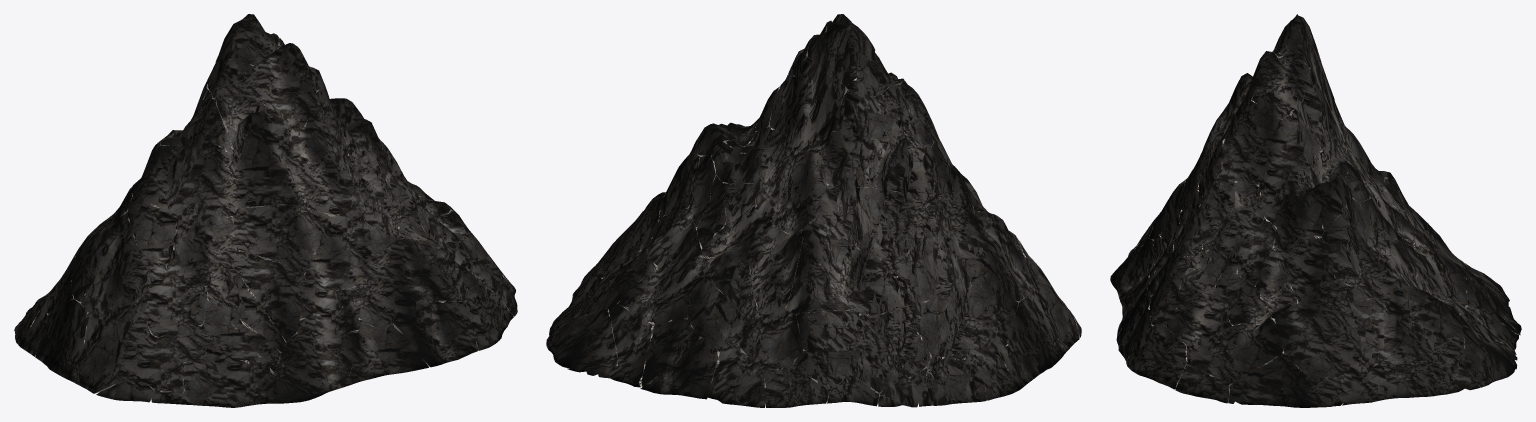
File: mountain2.glb
The picture shows the model from 3 angles, left to right: view 1: azimuth 30°, elevation 25°; view 2: azimuth 150°, elevation 25°; view 3: azimuth 270°, elevation 25°; orthographic projection. The views are drawn at different scales.
Parts seen in each view (by area): view 1: mountain_top, Landscape.004_cell.081, Landscape.004_cell.055, Landscape.004_cell.037, Landscape.004_cell.020, Landscape.004_cell.070, Landscape.004_cell.074, Landscape.004_cell.064, Landscape.004_cell.067, Landscape.004_cell.016, Landscape.004_cell.046, Landscape.004_cell.053 (+9 smaller); view 2: mountain_top, Landscape.004_cell.021, Landscape.004_cell.070, Landscape.004_cell.071, Landscape.004_cell.096, Landscape.004_cell.086, Landscape.004_cell.054, Landscape.004_cell.019, Landscape.004_cell.051, Landscape.004_cell.031, Landscape.004_cell.052, Landscape.004_cell.085 (+9 smaller); view 3: mountain_top, Landscape.004_cell.085, Landscape.004_cell.019, Landscape.004_cell.058, Landscape.004_cell.046, Landscape.004_cell.032, Landscape.004_cell.074, Landscape.004_cell.022, Landscape.004_cell.021, Landscape.004_cell.020, Landscape.004_cell.037, Landscape.004_cell.098 (+5 smaller).
Part boxes in pixels (x1,y1,x2,y2): mountain_top: (36,14,467,351); Landscape.004_cell.081: (79,304,156,393); Landscape.004_cell.055: (183,352,277,407); Landscape.004_cell.037: (392,300,477,367); Landscape.004_cell.020: (271,333,350,403); Landscape.004_cell.070: (35,299,88,384); Landscape.004_cell.074: (463,284,513,350); Landscape.004_cell.064: (337,280,397,326); Landscape.004_cell.067: (204,299,273,373); Landscape.004_cell.016: (319,326,387,368); Landscape.004_cell.046: (447,211,502,291); Landscape.004_cell.053: (137,345,184,394); mountain_top: (618,14,1031,395); Landscape.004_cell.021: (546,309,617,368); Landscape.004_cell.070: (1005,297,1069,379); Landscape.004_cell.071: (738,310,804,372); Landscape.004_cell.096: (640,338,723,399); Landscape.004_cell.086: (707,345,764,407); Landscape.004_cell.054: (609,304,653,387); Landscape.004_cell.019: (573,238,658,320); Landscape.004_cell.051: (641,318,701,386); Landscape.004_cell.031: (764,365,829,407); Landscape.004_cell.052: (928,356,986,403); Landscape.004_cell.085: (582,192,664,280); mountain_top: (1146,14,1476,326); Landscape.004_cell.085: (1275,278,1377,406); Landscape.004_cell.019: (1367,286,1463,363); Landscape.004_cell.058: (1342,359,1480,405); Landscape.004_cell.046: (1186,319,1284,385); Landscape.004_cell.032: (1228,353,1332,407); Landscape.004_cell.074: (1126,325,1187,389); Landscape.004_cell.022: (1166,286,1232,345); Landscape.004_cell.021: (1461,325,1515,387); Landscape.004_cell.020: (1110,239,1154,299); Landscape.004_cell.037: (1116,286,1153,361); Landscape.004_cell.098: (1175,362,1229,403).
Bounding box in the file's own units: 0.7767 × 0.5101 × 0.6689.
Materials: 1 (1 with a texture image).
